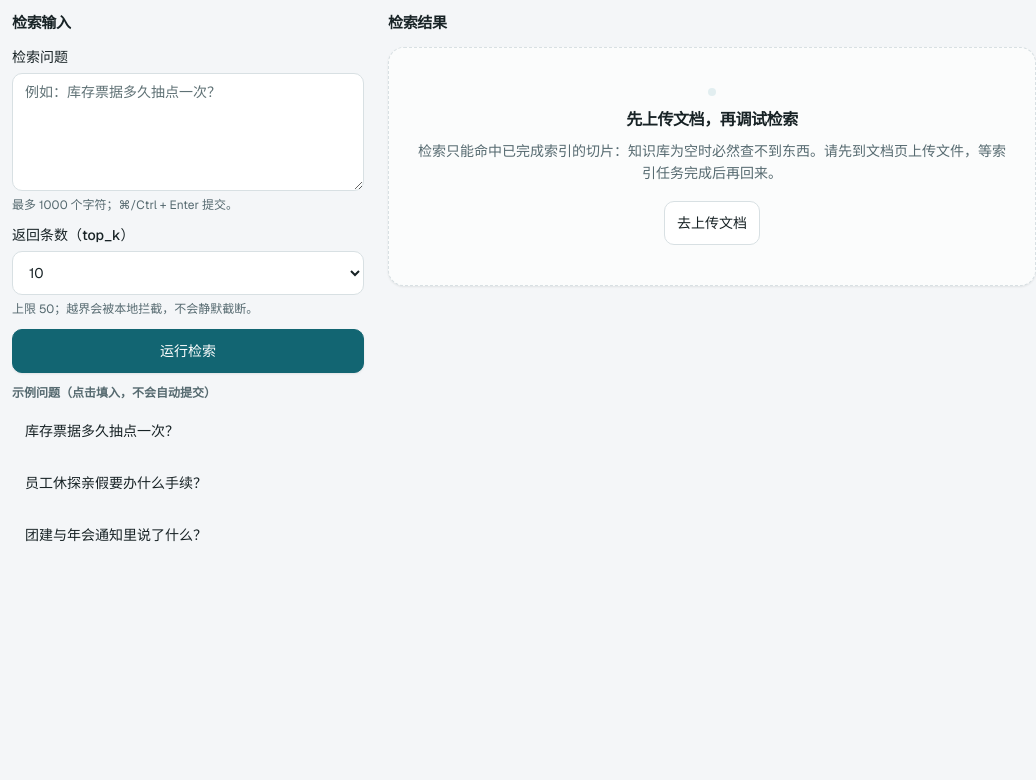
Test case: features/query/QueryConsole › 示例问题只填入输入框；top_k 只给 5/10/20/50 四档
The width and height of the screenshot is (1036, 780).
断言走常量而不是字面量：示例文案会跟着语料换，写死就会像上次那样悄悄过期。
Click the button "员工休探亲假要办什么手续？" at [116, 482], box [12,460,220,504]
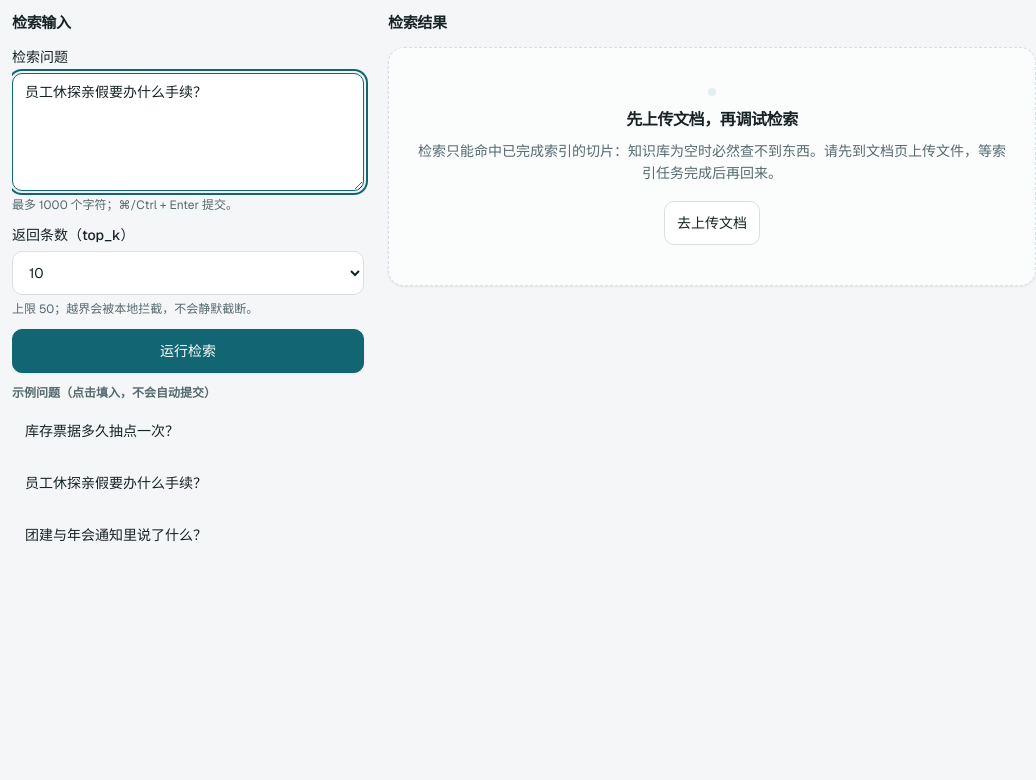
Expected: the dropdown labelled "返回条数（top_k）" shows "10", [12,250,364,294]
Expected: the text box labelled "检索问题" holds "员工休探亲假要办什么手续？", [12,72,364,190]
